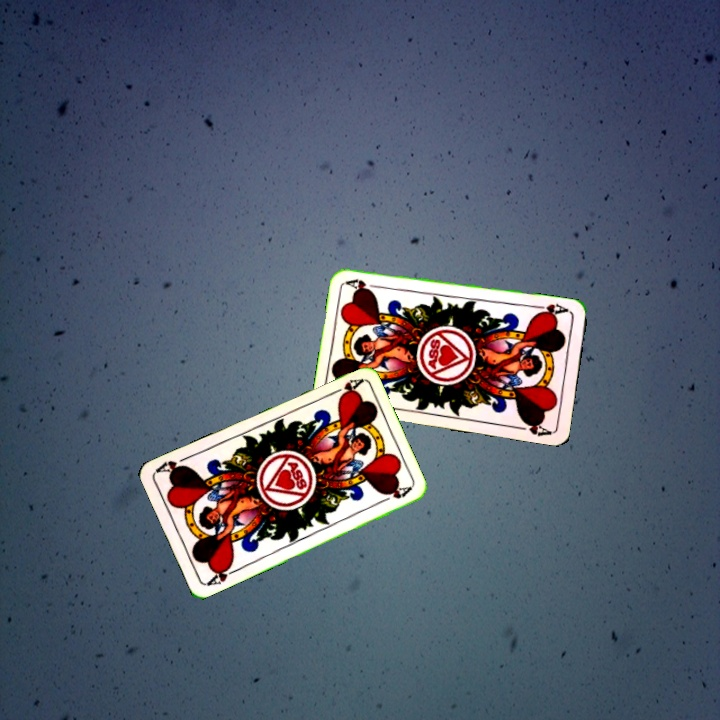HA: (203, 560, 241, 589), (325, 375, 364, 401), (531, 299, 571, 319)
